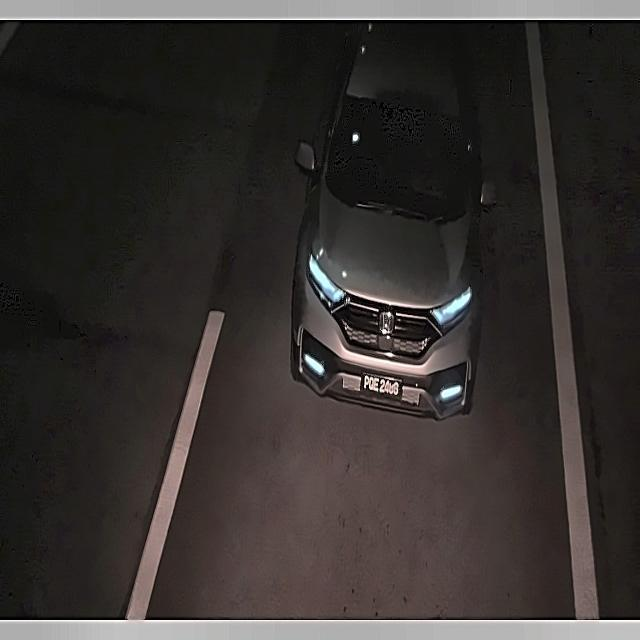car: (354, 362, 410, 408)
